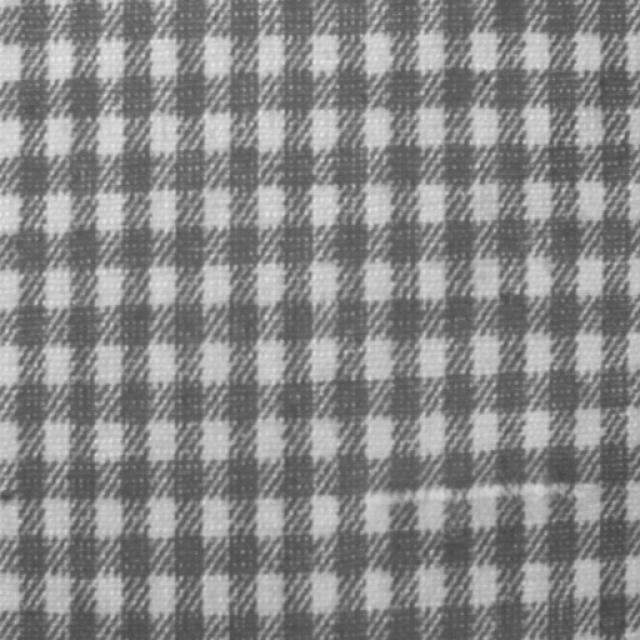Thread-Defect: (366, 484, 602, 506)
